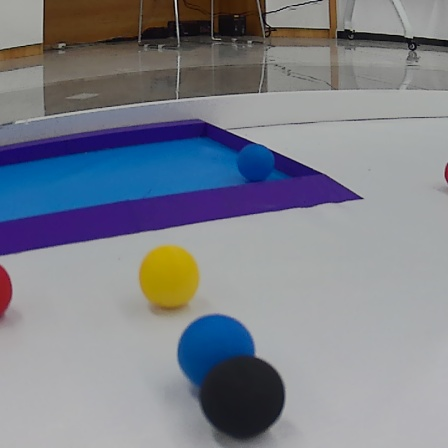black: (198, 355, 290, 441)
blue: (178, 314, 258, 390), (233, 143, 275, 187)
blue_aim: (1, 114, 369, 258)
yellow: (137, 245, 204, 310)
